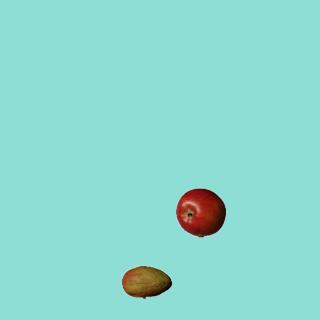Apple Braeburn: (175, 187, 225, 237)
Papaya: (121, 257, 171, 307)
